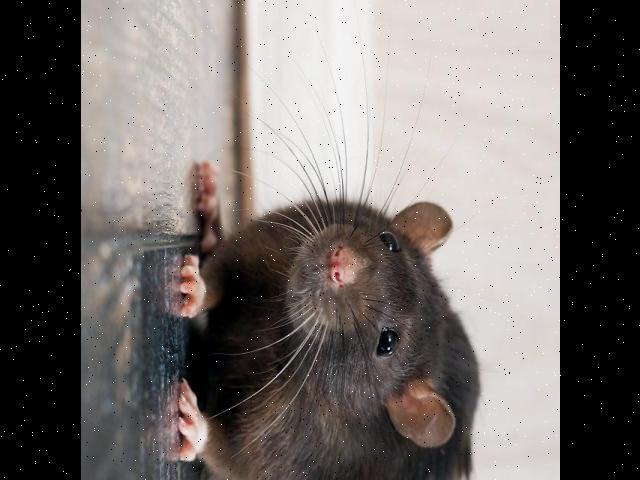Tikus: (174, 159, 488, 480)
